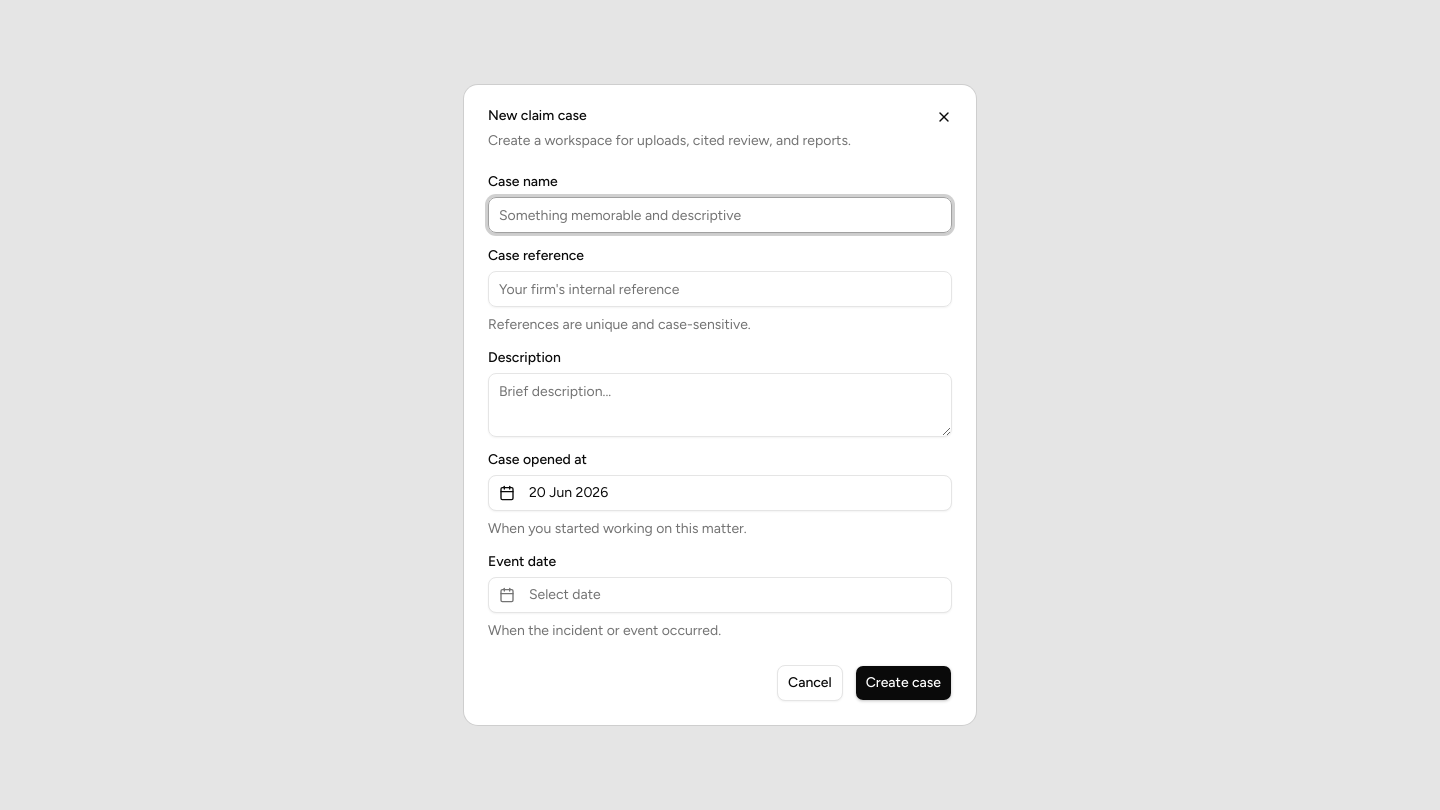
Test: CreateCaseDialog › shows validation errors for empty required fields
The image size is (1440, 810).
Click the button "Create case": [903, 683] box [855, 665, 952, 701]
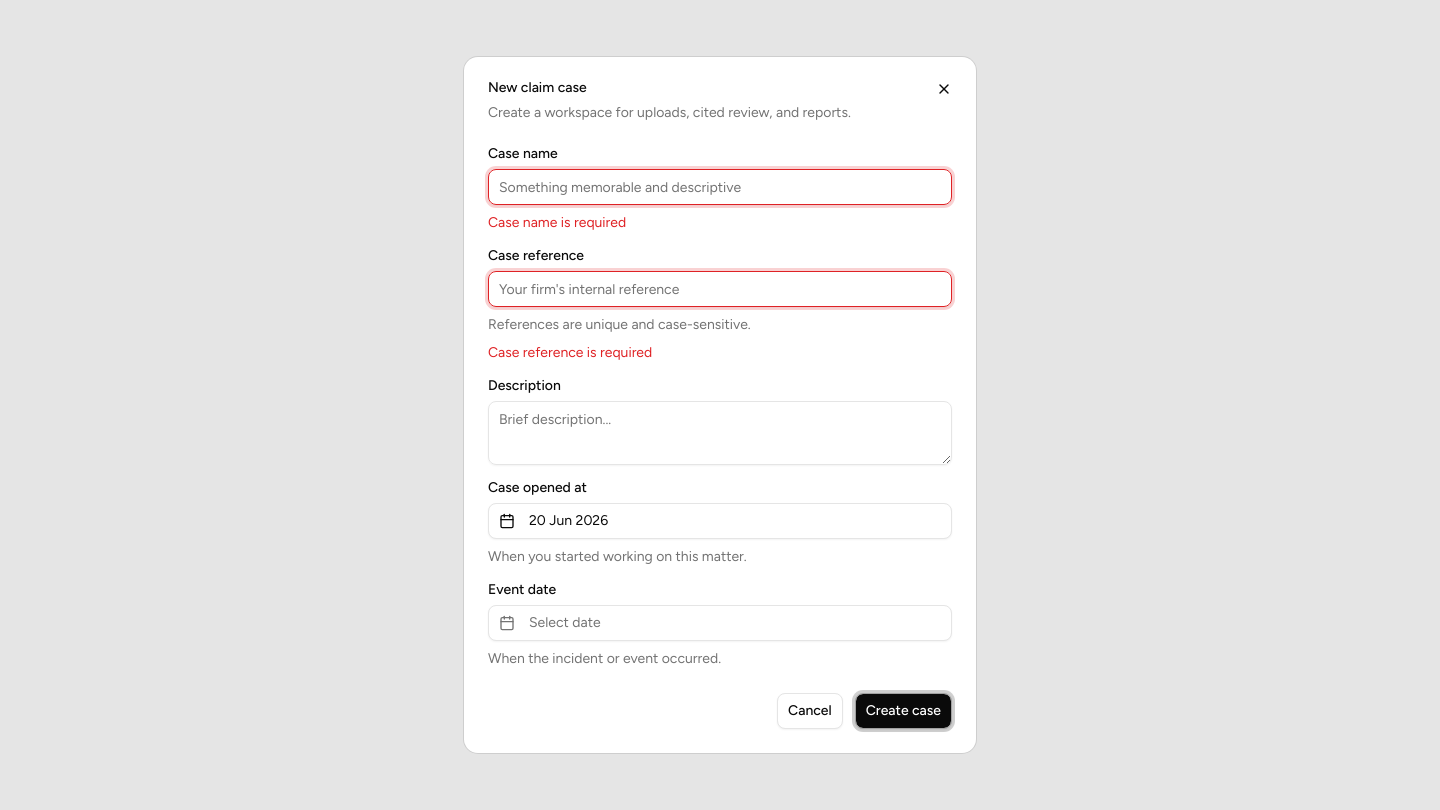
Expected: the text "Case name is required" is shown, [488, 214, 626, 231]
